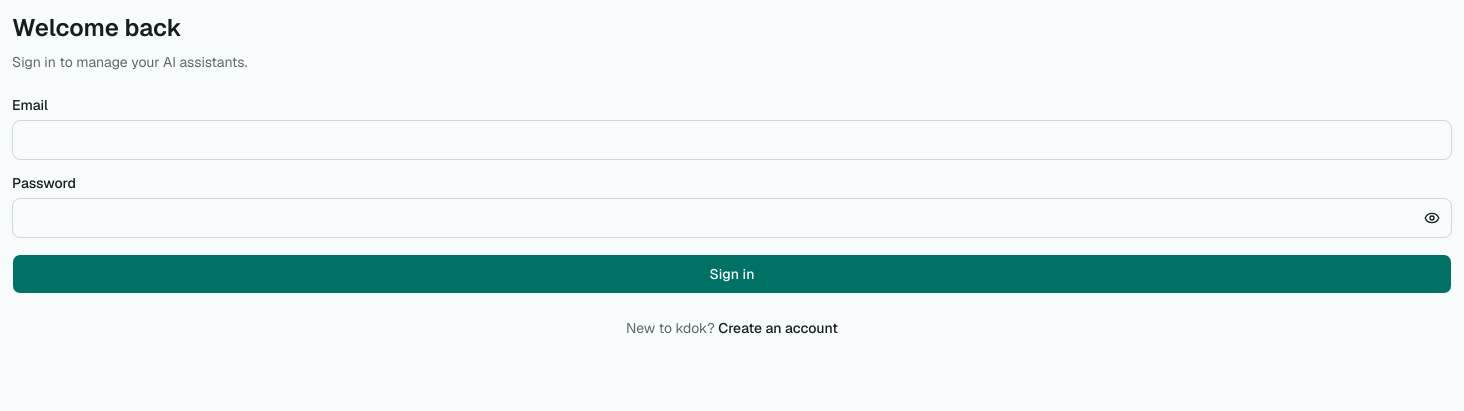
authentication forms › does not expose provider details when login fails
Type "user@example.com" into the field labelled "Email" at (732, 140), box [12, 120, 1452, 160]
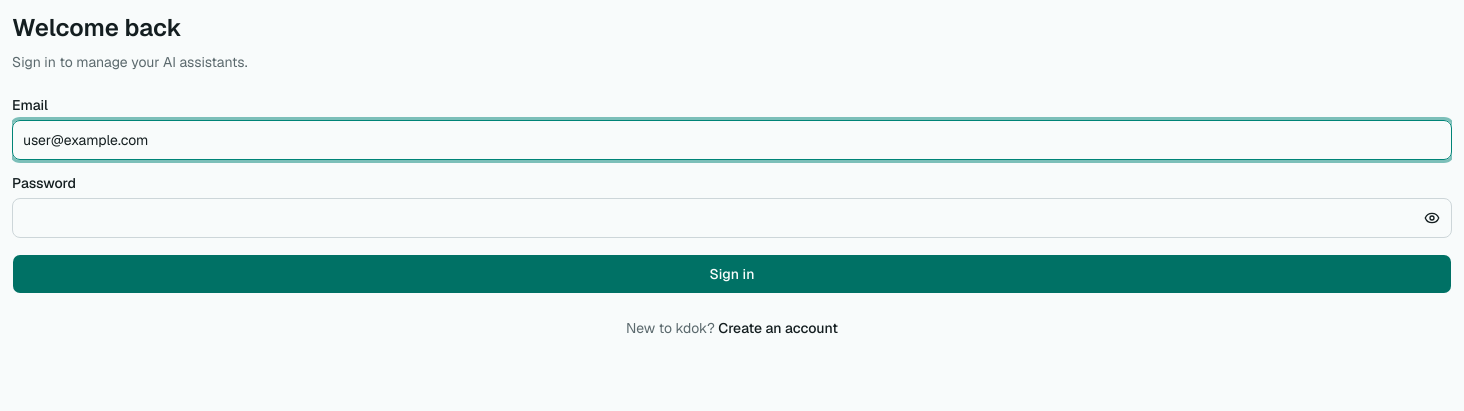
Type "wrong-password" into the password field labelled "Password" at (732, 218), box [12, 198, 1452, 238]
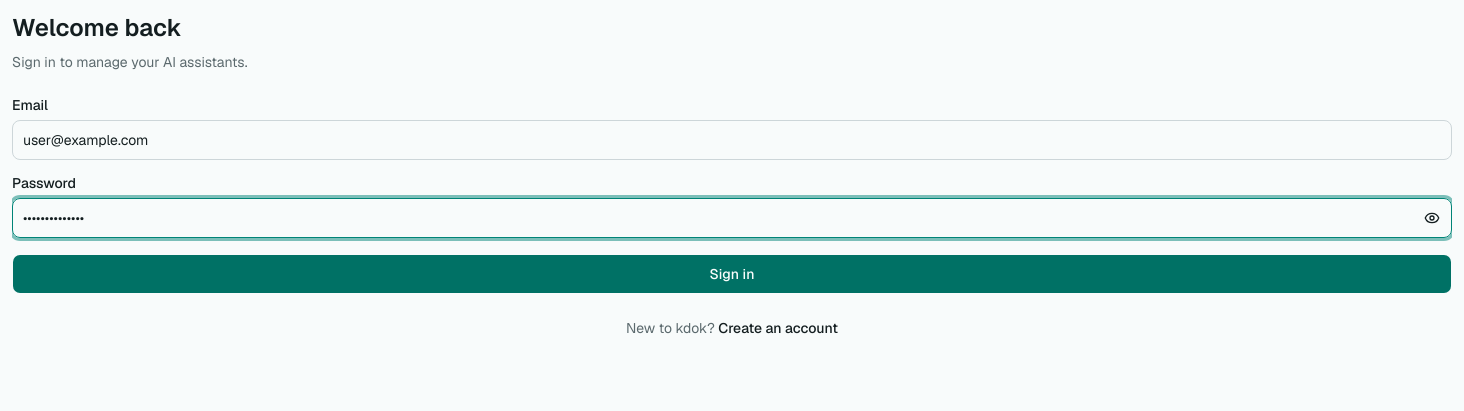
Click the button "Sign in" at (732, 274), box [12, 254, 1452, 294]
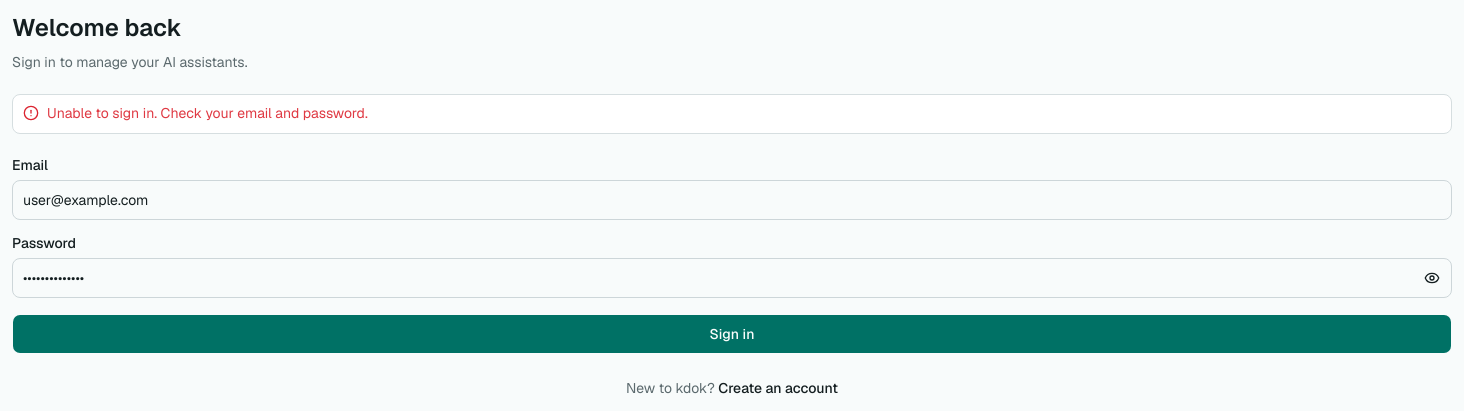
Check: the message reads "Unable to sign in. Check your email and password.", box [47, 104, 368, 122]
